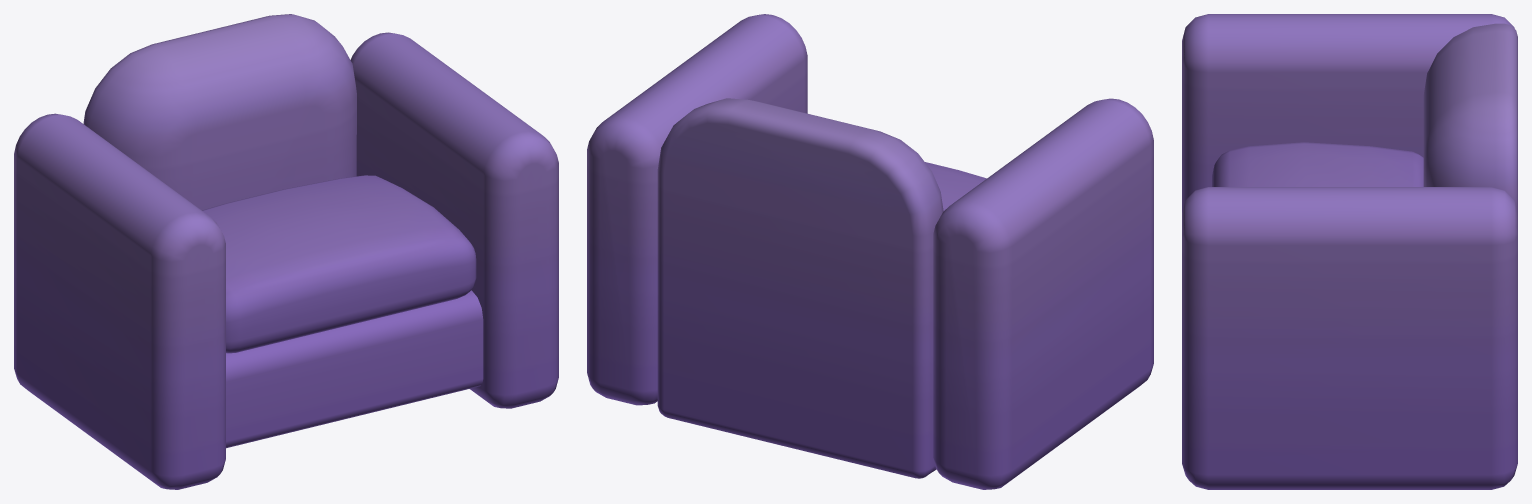
File: Armchair_01.glb
3 renders of one model, left to right at view 1: azimuth 30°, elevation 25°; view 2: azimuth 150°, elevation 25°; view 3: azimuth 270°, elevation 25°, orthographic. The views are drawn at different scales.
Parts seen in each view (by area): view 1: Armchair_01; view 2: Armchair_01; view 3: Armchair_01.
Part boxes in pixels (box(x1,y1,x2,y2)): Armchair_01: box(14, 14, 558, 489); Armchair_01: box(587, 14, 1153, 489); Armchair_01: box(1182, 14, 1517, 489).
Bounding box in the file's own units: 1.13 × 0.8335 × 0.765.
Materials: 1 (1 with a texture image).
